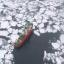fishing boat: (13, 18, 34, 51)
